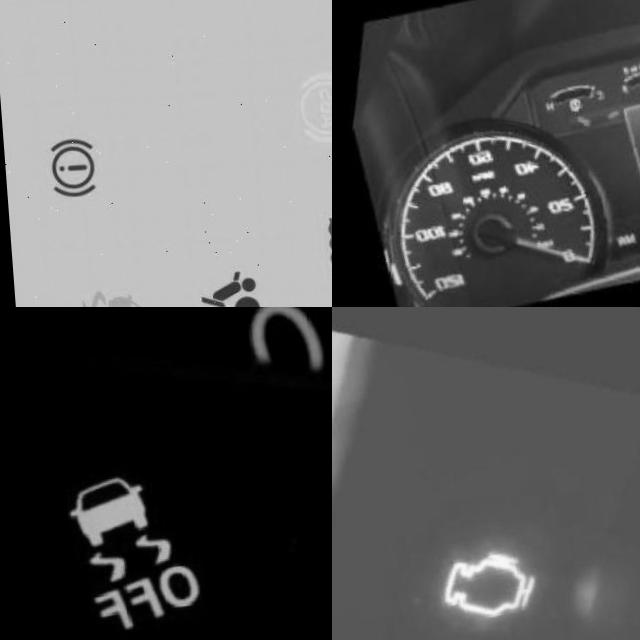Low fuel level: (635, 82, 640, 96)
